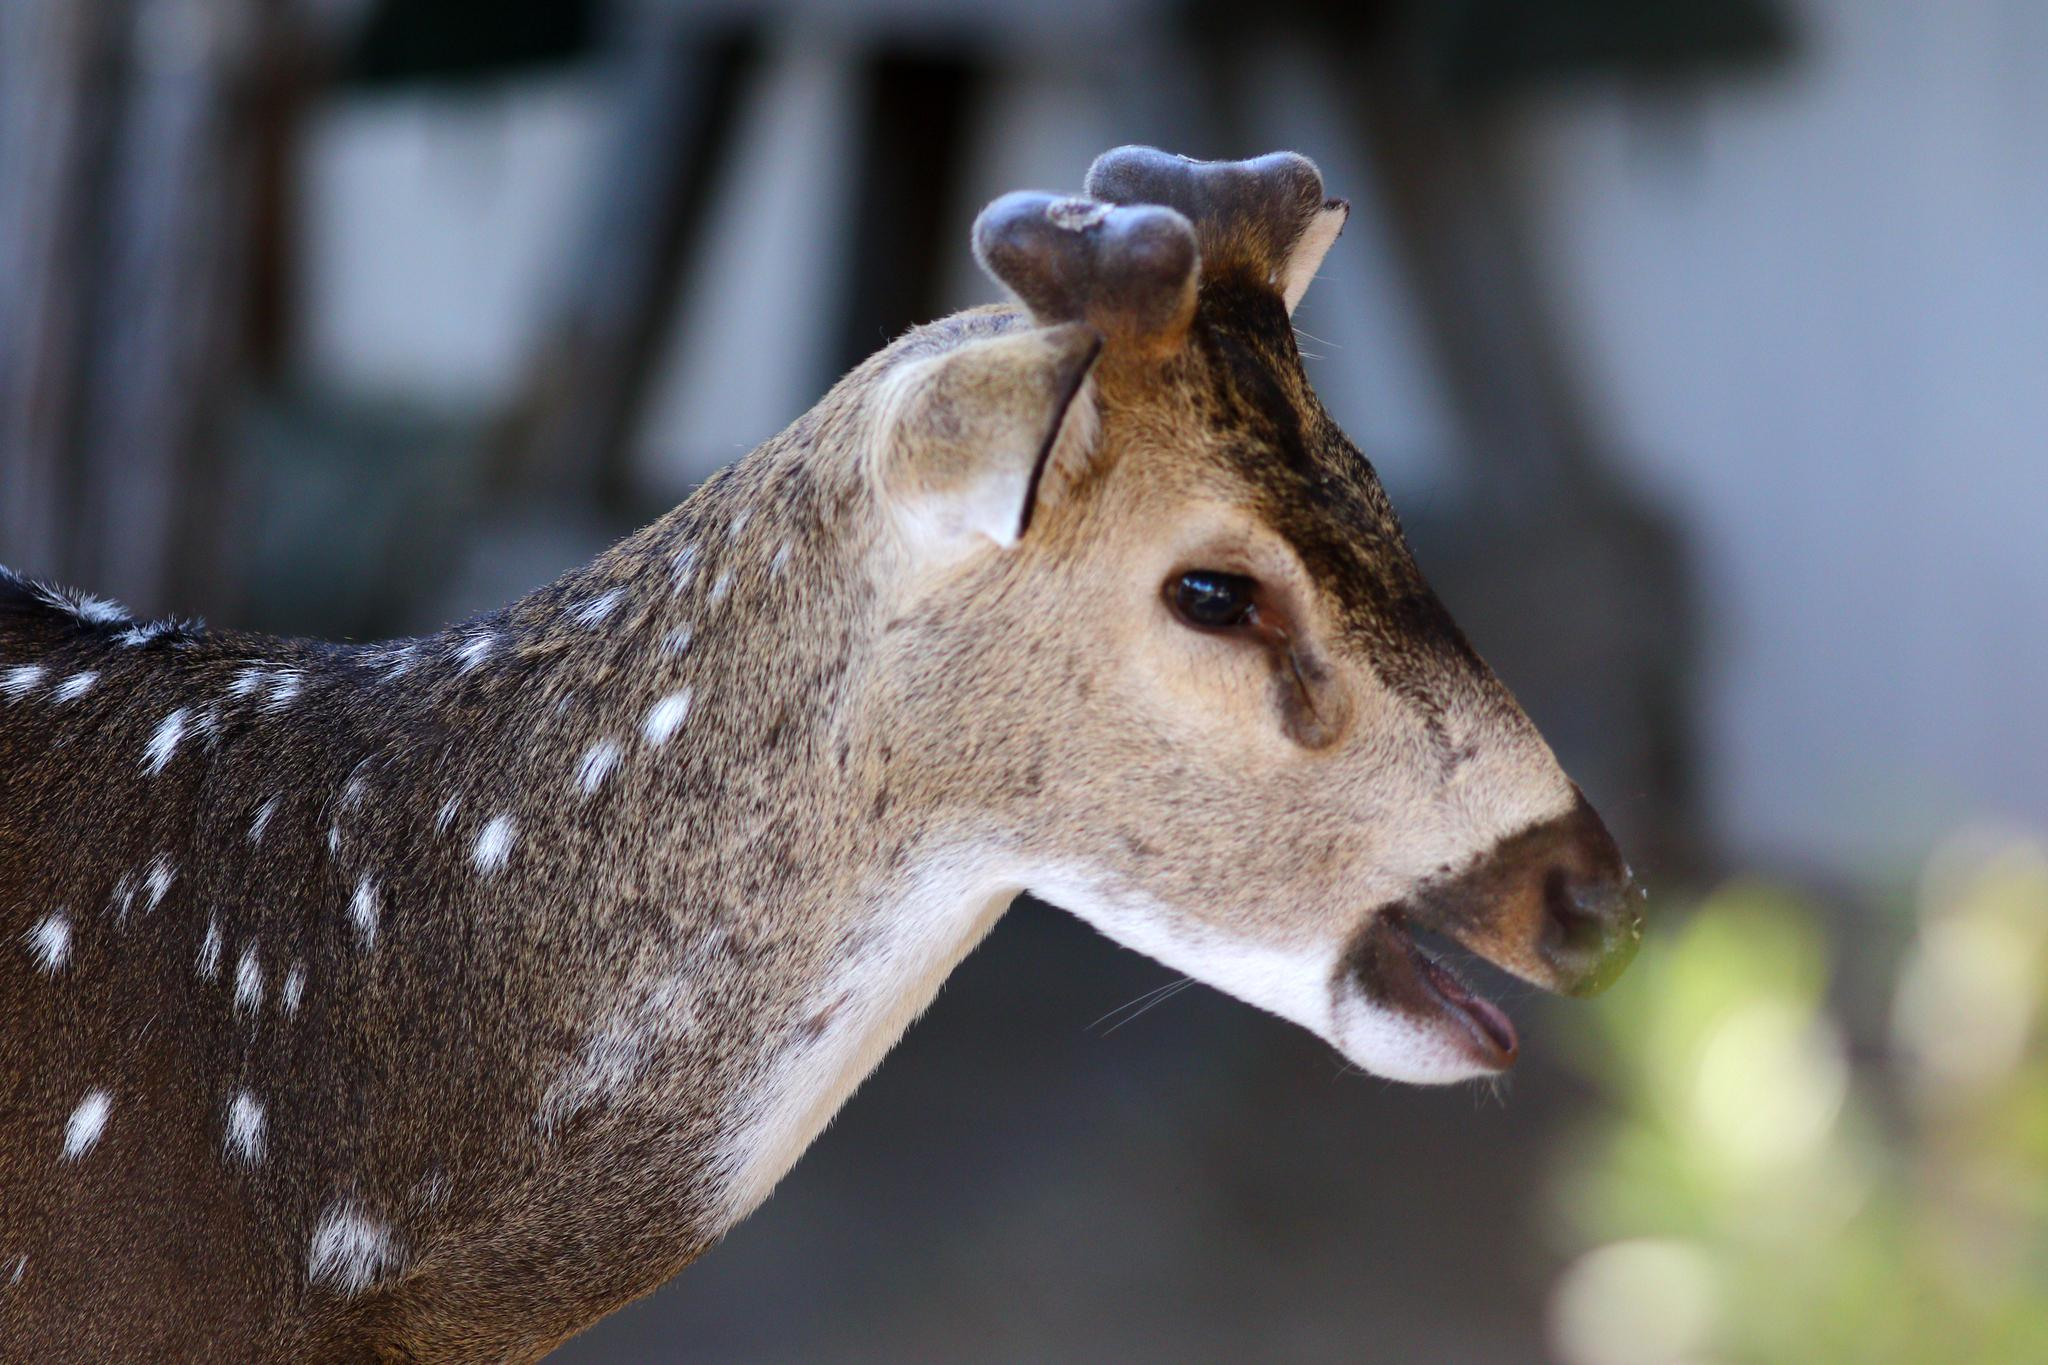Deer: (0, 148, 1643, 1360)
